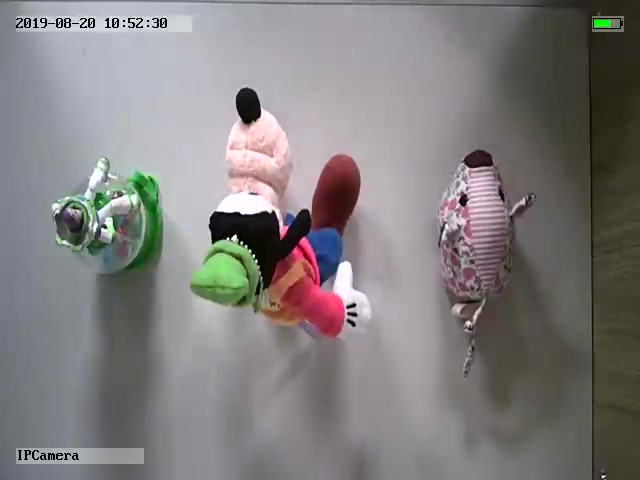buzz: (50, 154, 165, 277)
goofy: (189, 87, 372, 343)
pig: (437, 150, 536, 377)
